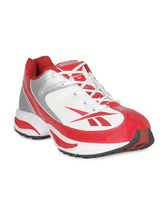shoes: (12, 54, 158, 158)
